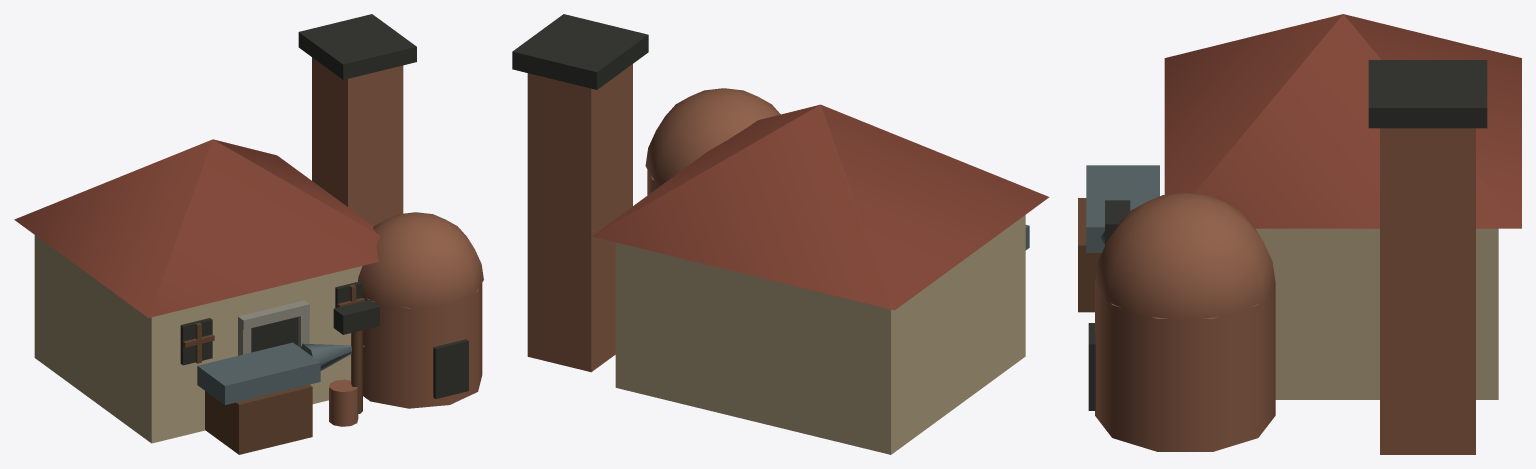
The model's file is custom-imp-smithy.glb.
3 renders of one model, left to right at view 1: azimuth 30°, elevation 25°; view 2: azimuth 150°, elevation 25°; view 3: azimuth 270°, elevation 25°, orthographic. The views are drawn at different scales.
Visible parts, largest first — view 1: custom-imp-smithy; view 2: custom-imp-smithy; view 3: custom-imp-smithy.
Part boxes in pixels (x1,y1,x2,y2): custom-imp-smithy: [14, 14, 483, 454]; custom-imp-smithy: [512, 14, 1049, 454]; custom-imp-smithy: [1078, 14, 1521, 454].
Size of the model in its own units: 1 by 0.736 by 0.8387.
